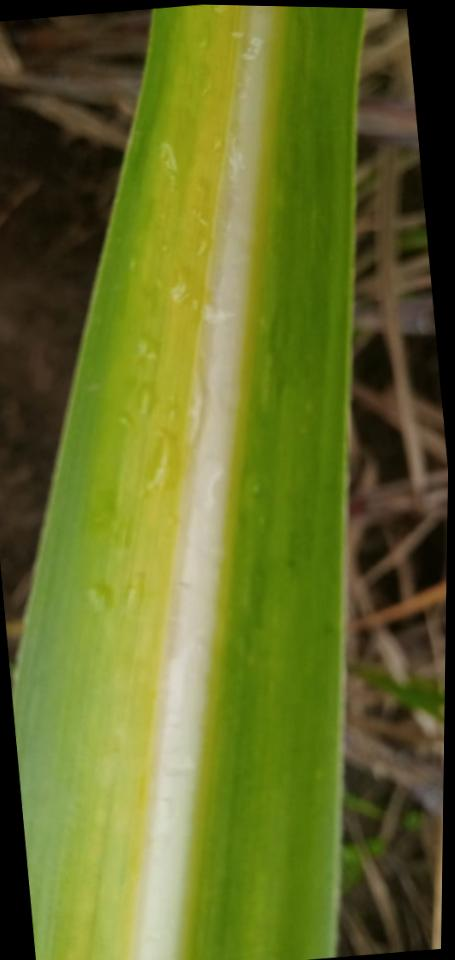Yellow: (31, 5, 246, 960), (176, 6, 294, 960)
